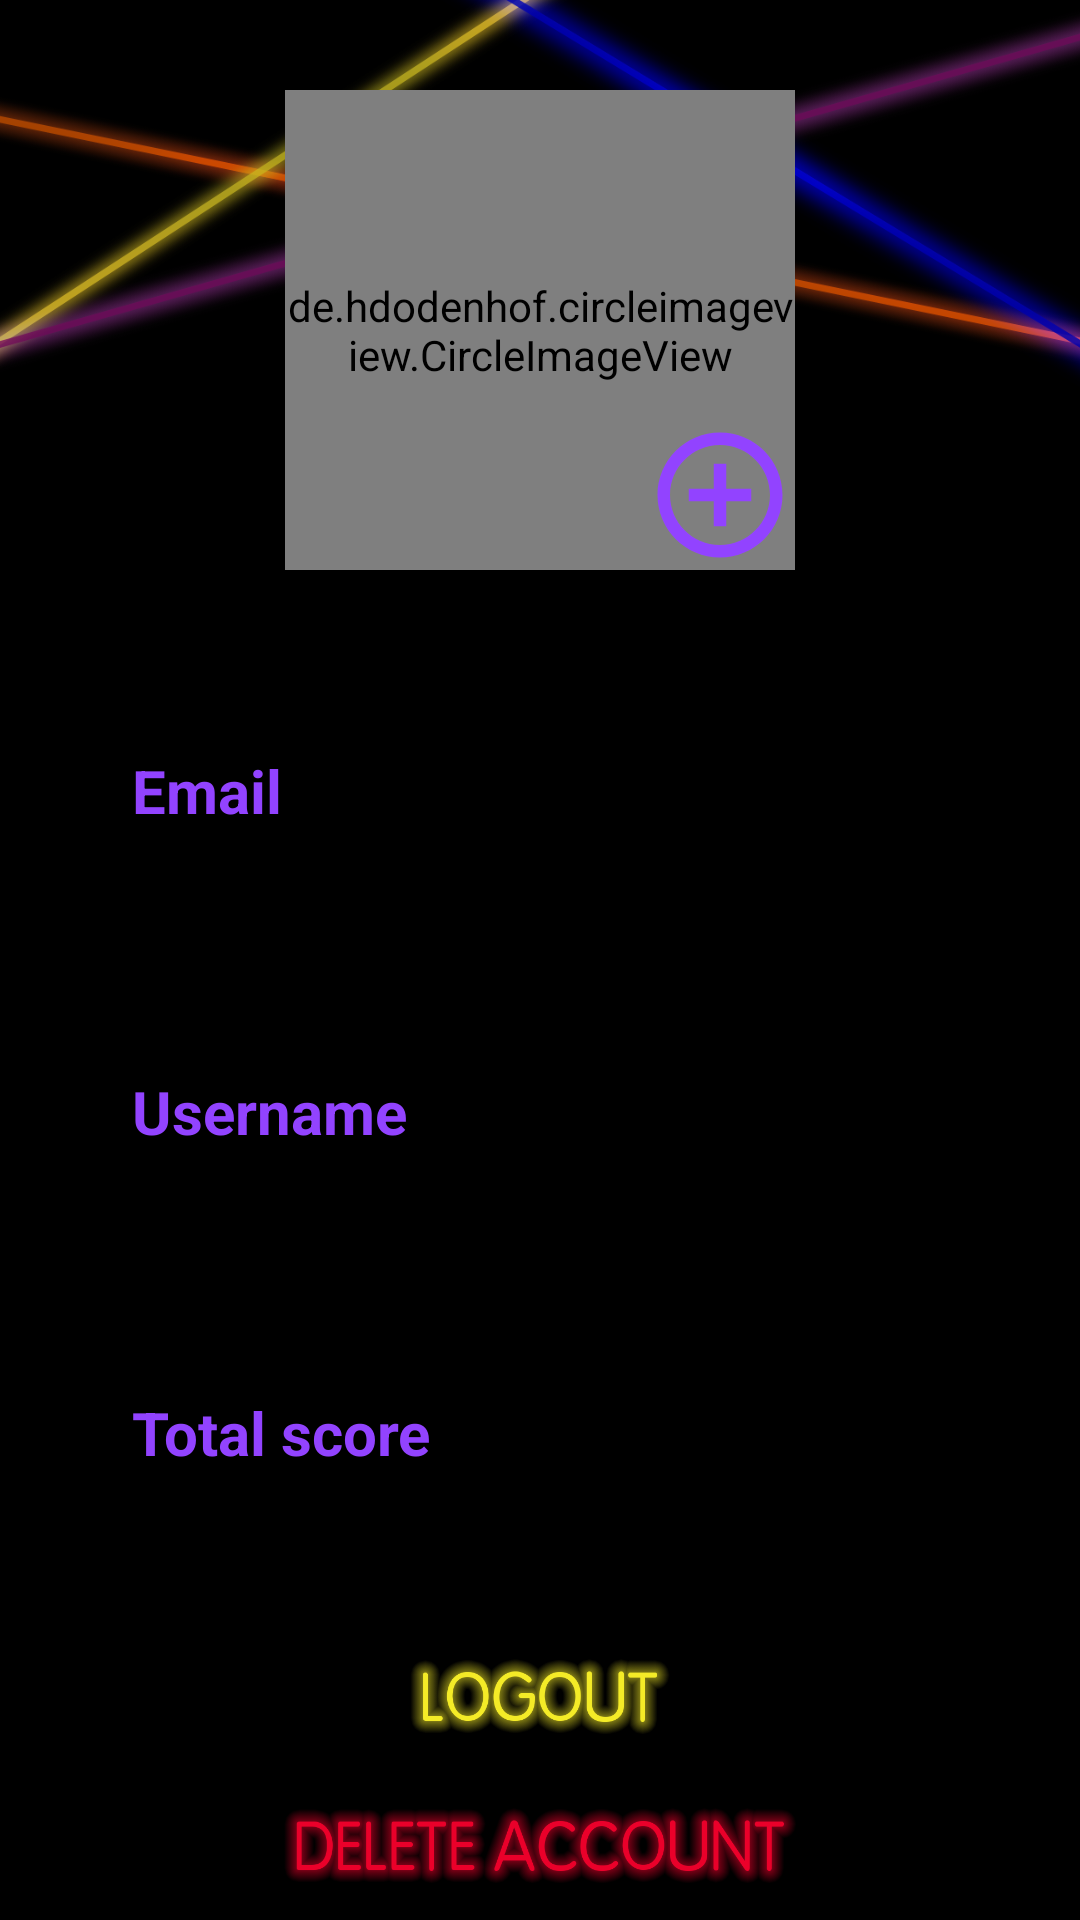

Icon bounding boxes for this 1080px x 1920px phone screenshot, format {"x1": x1, "y1": y1, "x2": x2, "y2": y2}:
add circle: {"x1": 657, "y1": 432, "x2": 783, "y2": 558}
